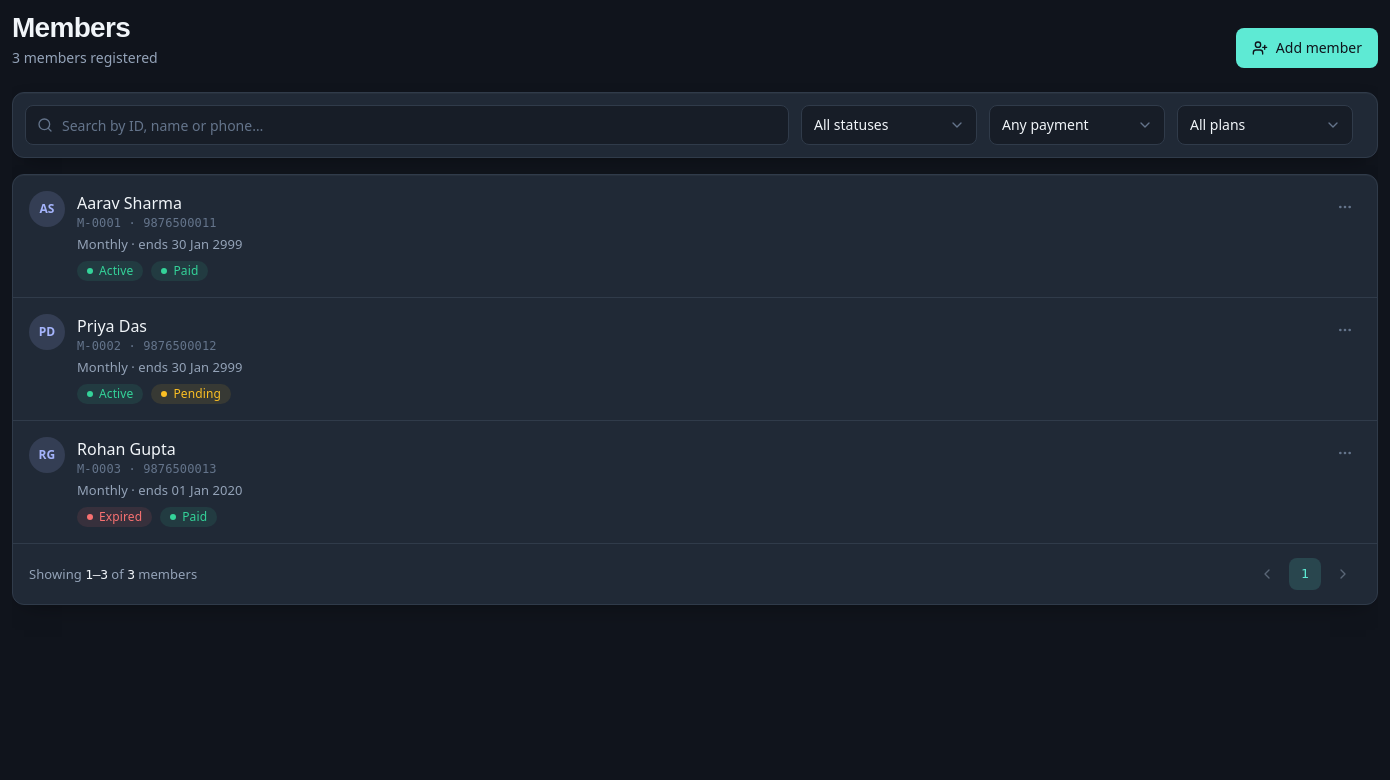
Test: Members page (card layout) › shows a helpful message when a search finds nothing, and clears it
Check: the text "Aarav Sharma" is shown, box [77,192,182,214]
Type "zzzz" into the search field named "search members" at point(407, 125), box [25,105,789,145]
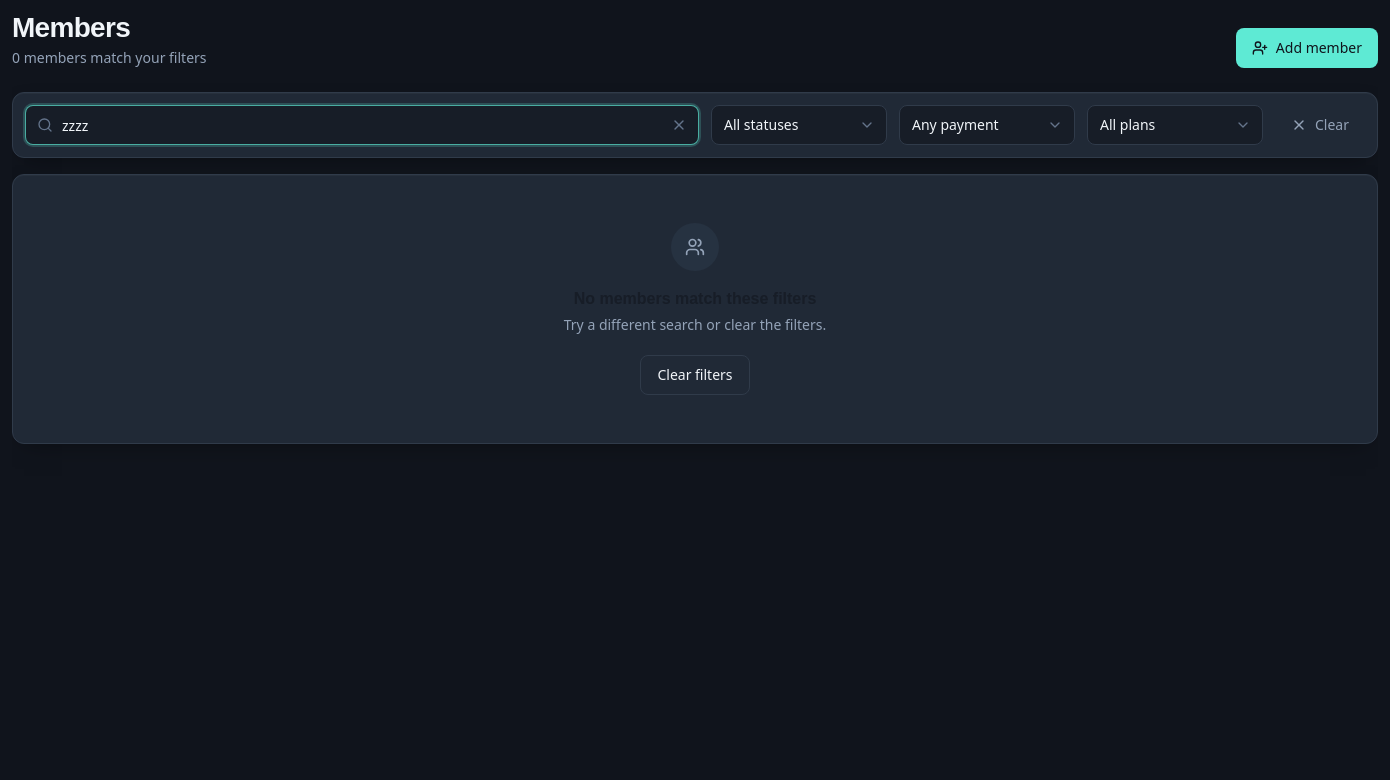
Click the button "Clear filters" at point(695, 375), box [640,355,750,395]
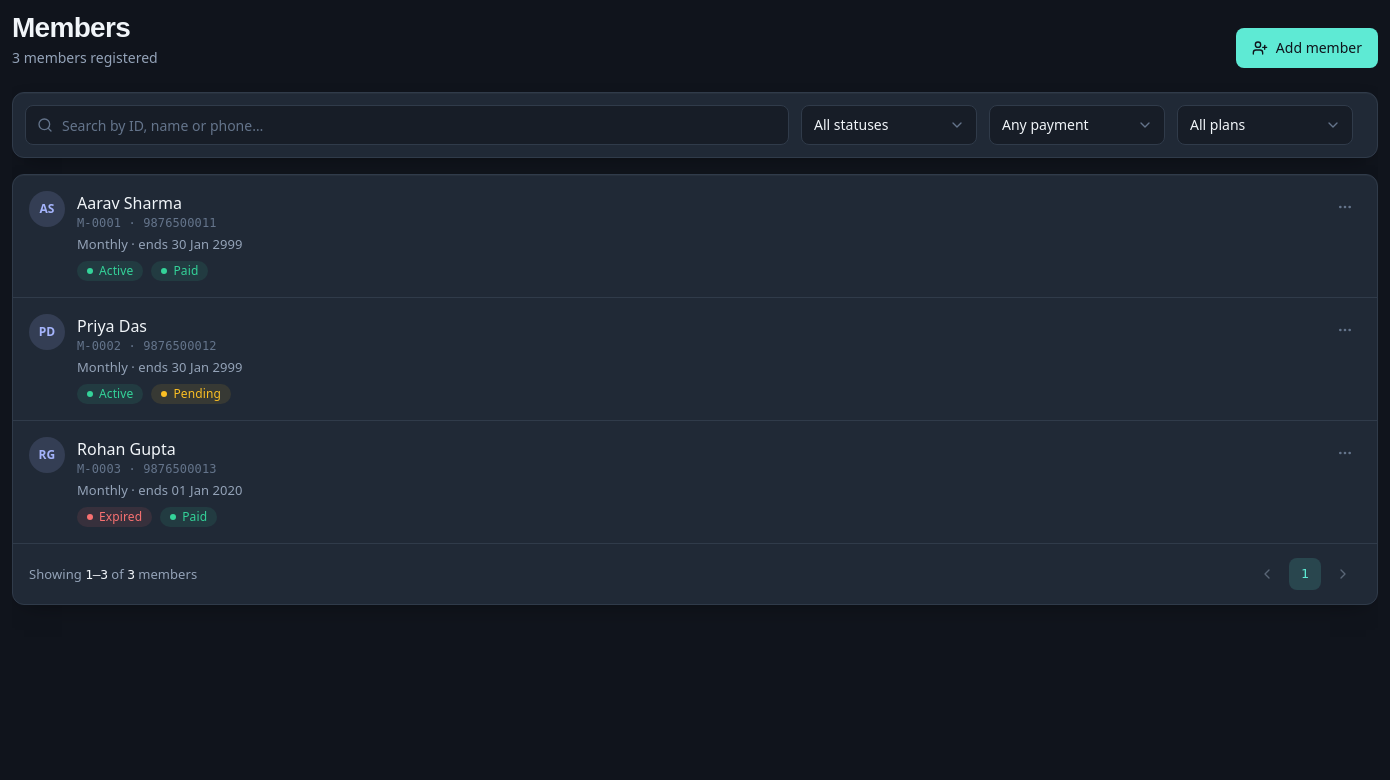
Check: the text "Aarav Sharma" is shown, box [77,192,182,214]
